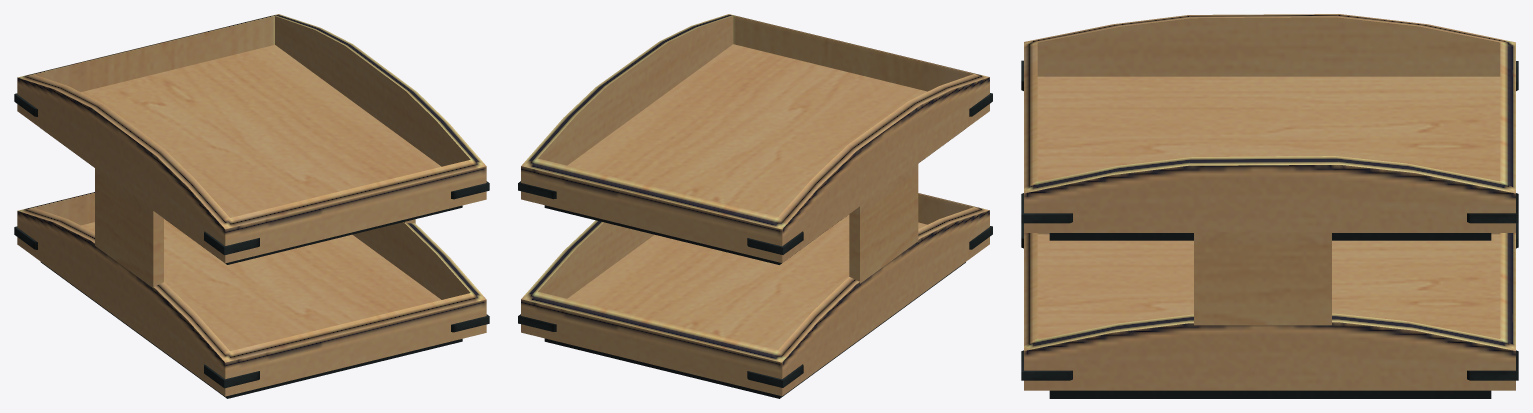
Rendered from paper_rack-7.FBX.
3 renders of one model, left to right at view 1: azimuth 30°, elevation 25°; view 2: azimuth 150°, elevation 25°; view 3: azimuth 270°, elevation 25°, orthographic. The views are drawn at different scales.
Parts seen in each view (by area): view 1: Object01; view 2: Object01; view 3: Object01.
Boxes of the visible parts, x1=… form: Object01: x1=14, y1=14, x2=489, y2=398; Object01: x1=518, y1=14, x2=992, y2=398; Object01: x1=1021, y1=14, x2=1518, y2=398.
Bounding box in the file's own units: 9.33 × 6.95 × 12.8.
